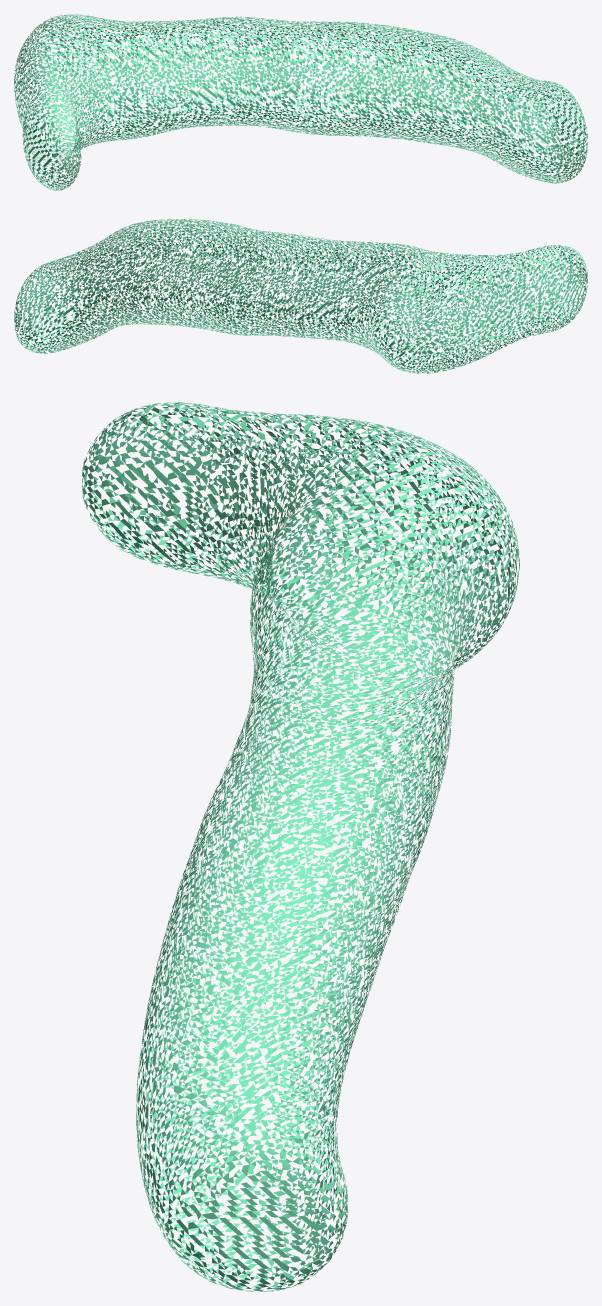
The model's file is healthy.glb.
3 views of the same model, one above another, from view 1: azimuth 30°, elevation 25°; view 2: azimuth 150°, elevation 25°; view 3: azimuth 270°, elevation 25° (orthographic). The views are drawn at different scales.
Size of the model in its own units: 134 by 53.73 by 48.73.
